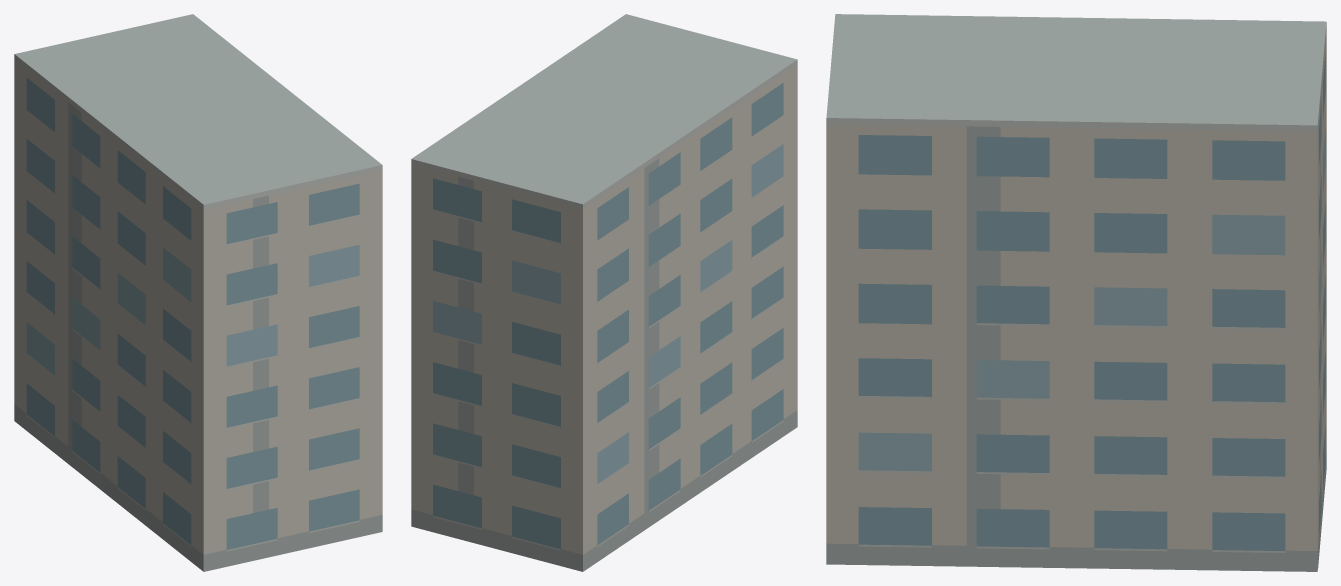
File: survey-upis-32568812.glb
3 renders of one model, left to right at view 1: azimuth 30°, elevation 25°; view 2: azimuth 150°, elevation 25°; view 3: azimuth 270°, elevation 25°, orthographic. The views are drawn at different scales.
Parts seen in each view (by area): view 1: survey-upis-32568812.tmp; view 2: survey-upis-32568812.tmp; view 3: survey-upis-32568812.tmp.
Boxes of the visible parts, box(x1,y1,x2,y2) form: survey-upis-32568812.tmp: box(14, 14, 382, 571); survey-upis-32568812.tmp: box(411, 14, 797, 571); survey-upis-32568812.tmp: box(826, 14, 1326, 571).
Size of the model in its own units: 9.27 by 17.3 by 17.57.
